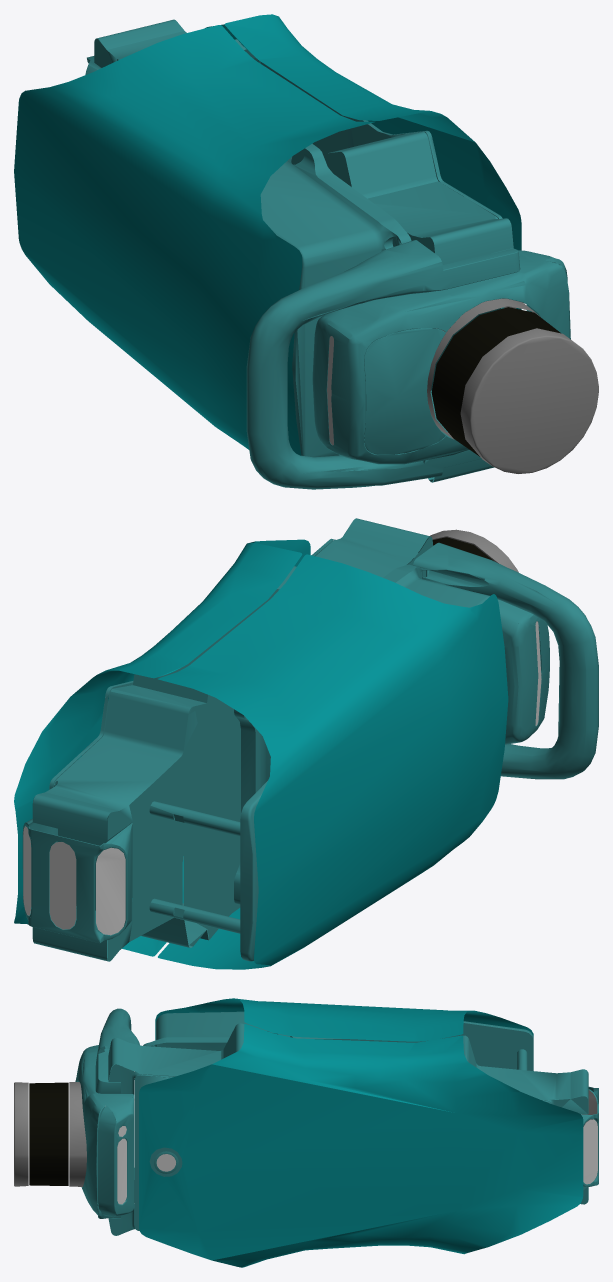
Rendered from torso.dae.
3 views of the same model, one above another, from view 1: azimuth 30°, elevation 25°; view 2: azimuth 150°, elevation 25°; view 3: azimuth 270°, elevation 25° (orthographic). The views are drawn at different scales.
Visible parts, largest first — view 1: torso; view 2: torso; view 3: torso.
Part boxes in pixels (left/top/right/bottom): torso: left=14, top=14, right=598, bottom=489; torso: left=14, top=518, right=598, bottom=969; torso: left=14, top=998, right=598, bottom=1267.
Size of the model in its own units: 0.2461 by 0.2422 by 0.5638.
